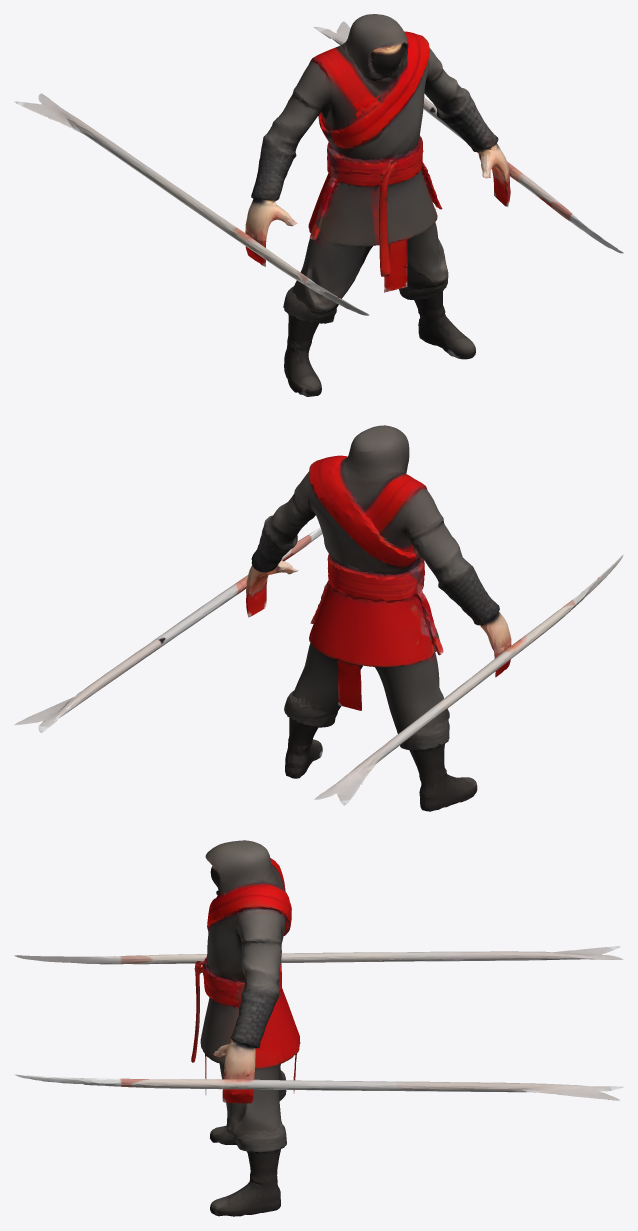
File: ninja.glb
3 views of the same model, one above another, from view 1: azimuth 30°, elevation 25°; view 2: azimuth 150°, elevation 25°; view 3: azimuth 270°, elevation 25° (orthographic). The views are drawn at different scales.
Parts seen in each view (by area): view 1: ninja; view 2: ninja; view 3: ninja.
Boxes of the visible parts, x1,y1,x2,y2 form: ninja: (14, 14, 623, 396); ninja: (14, 425, 623, 811); ninja: (14, 840, 623, 1216).
Size of the model in its own units: 1.13 by 1.13 by 1.89.
1 material, 1 textured.
